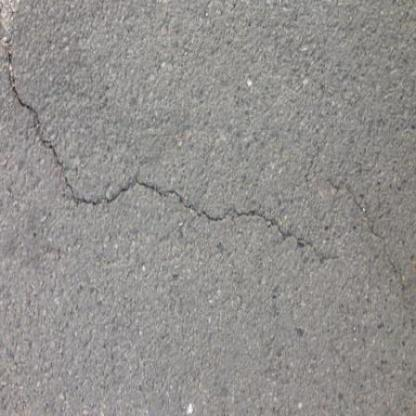Cracks: (0, 127, 354, 269), (291, 140, 416, 298), (0, 0, 91, 213)
